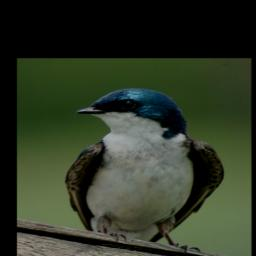Swallow: (63, 87, 224, 255)
